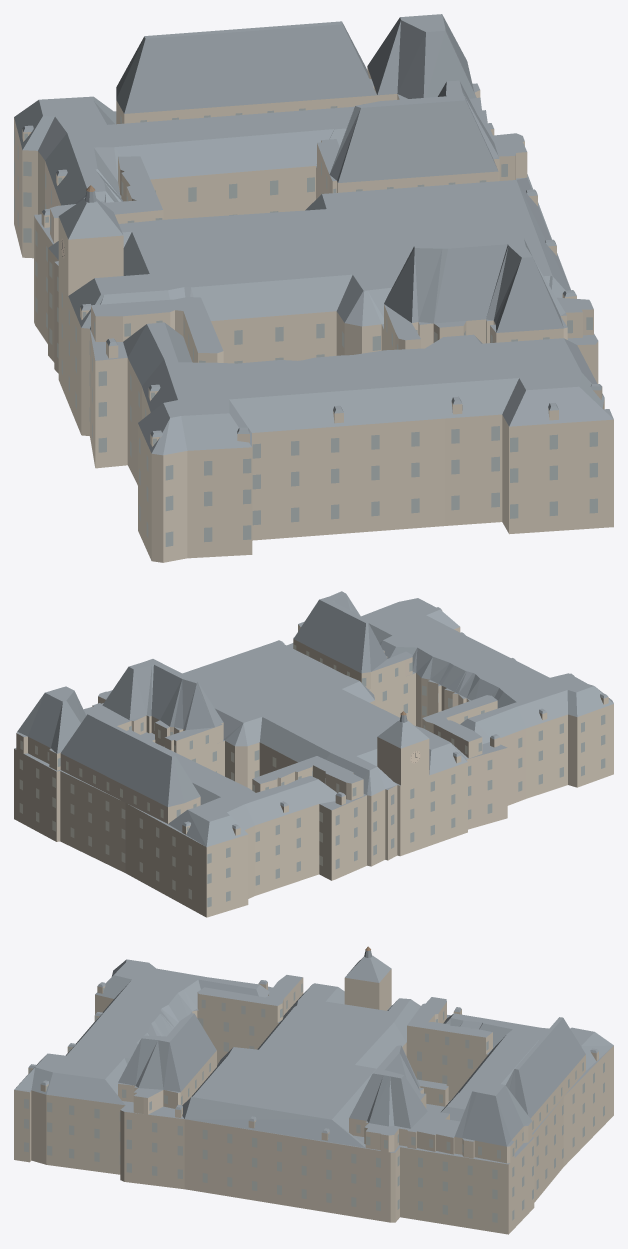
3 renders of one model, top to bottom at view 1: azimuth 30°, elevation 25°; view 2: azimuth 150°, elevation 25°; view 3: azimuth 270°, elevation 25°, orthographic. The views are drawn at different scales.
Visible parts, largest first — view 1: roof, stone, window; view 2: roof, stone, window; view 3: roof, stone, window.
Part boxes in pixels (bbox=[...]): roof: bbox=[14, 14, 613, 455]; stone: bbox=[14, 67, 613, 562]; window: bbox=[14, 104, 597, 546]; roof: bbox=[14, 591, 613, 847]; stone: bbox=[14, 610, 613, 917]; window: bbox=[19, 630, 605, 907]; roof: bbox=[14, 950, 613, 1164]; stone: bbox=[14, 969, 613, 1234]; window: bbox=[24, 983, 604, 1222].
Bounding box in the file's own units: 126 × 40 × 163.
